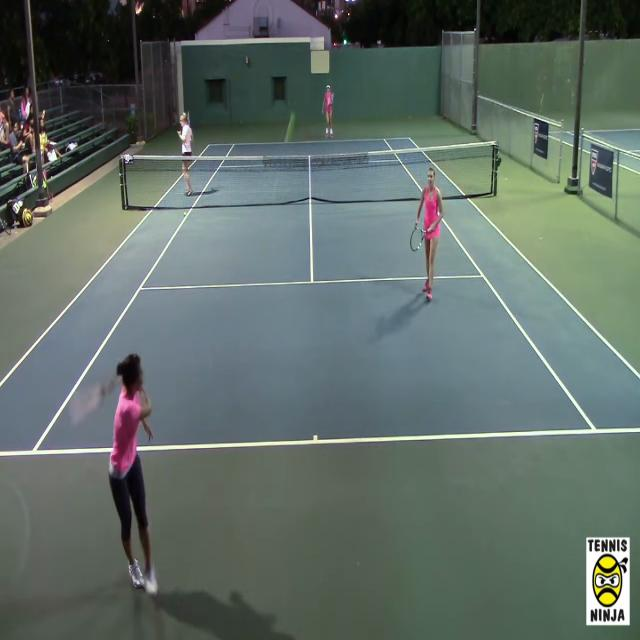ball: (288, 111, 298, 126), (183, 210, 187, 218)
